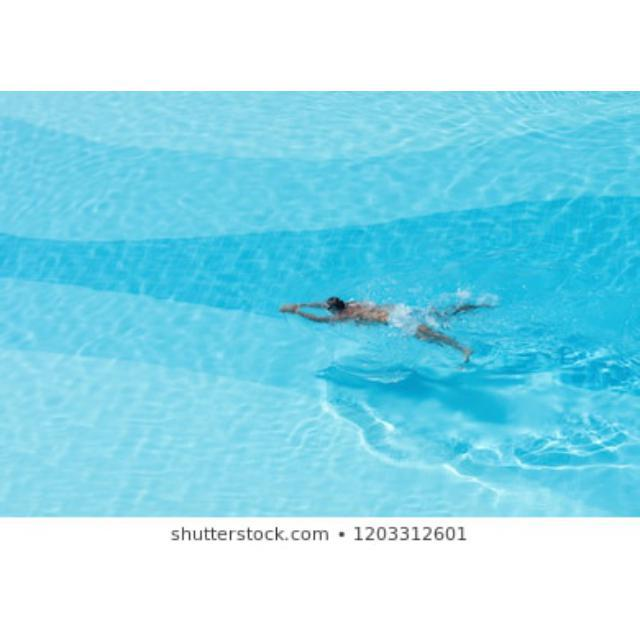human: (284, 296, 477, 361)
